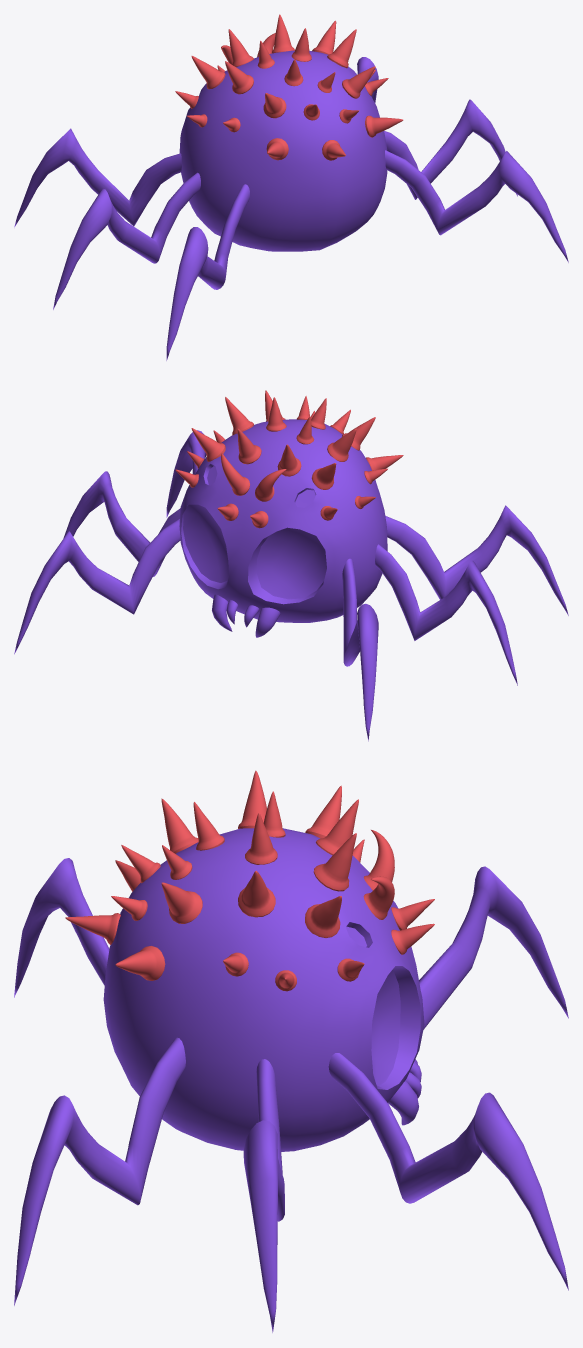
The model's file is mob3low.fbx.
The picture shows the model from 3 angles, top to bottom: view 1: azimuth 30°, elevation 25°; view 2: azimuth 150°, elevation 25°; view 3: azimuth 270°, elevation 25°; orthographic projection. The views are drawn at different scales.
Visible parts, largest first — view 1: corpo_LP, Pernas_LP, detalhe_LP; view 2: corpo_LP, Pernas_LP, detalhe_LP; view 3: corpo_LP, Pernas_LP, detalhe_LP.
Part boxes in pixels (<box>): corpo_LP: <box>179,50,387,251</box>; Pernas_LP: <box>14,57,568,360</box>; detalhe_LP: <box>175,14,403,160</box>; corpo_LP: <box>179,419,387,637</box>; Pernas_LP: <box>14,430,568,741</box>; detalhe_LP: <box>175,390,403,528</box>; corpo_LP: <box>103,828,424,1151</box>; Pernas_LP: <box>14,858,568,1332</box>; detalhe_LP: <box>65,770,434,991</box>.
Bounding box in the file's own units: 460 × 213 × 303.
